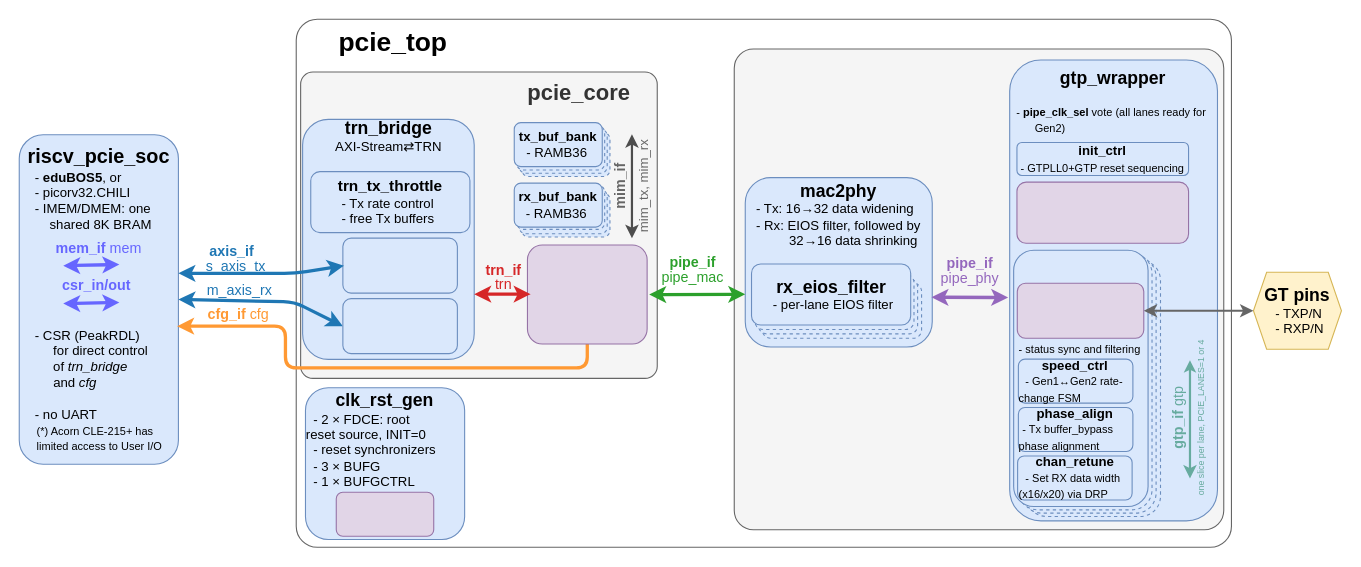
Image size: 1361x567. Some labels were removed from this diagram. The box of each missing label's shape, as (x1, y1, x2, y2) in pixels:
GTPE2_CHANNEL <AMD HM> - PCS - PMA: (1016, 282, 1144, 338)
GTPE2_COMMON <AMD HM> - GTPLL0 (one per quad): (1016, 181, 1189, 243)
lane_xcvr: (1013, 249, 1148, 507)
MMCME2_ADV <AMD HM>: (335, 491, 434, 536)
PCIE_2_1 <AMD HM> - TL - DLL - LTSSM - MAC: (526, 244, 647, 344)
phy_top: (733, 48, 1224, 530)
trn_rx TRN-to-AXIS: (342, 298, 457, 354)
trn_tx AXIS-to-TRN: (342, 237, 457, 293)
